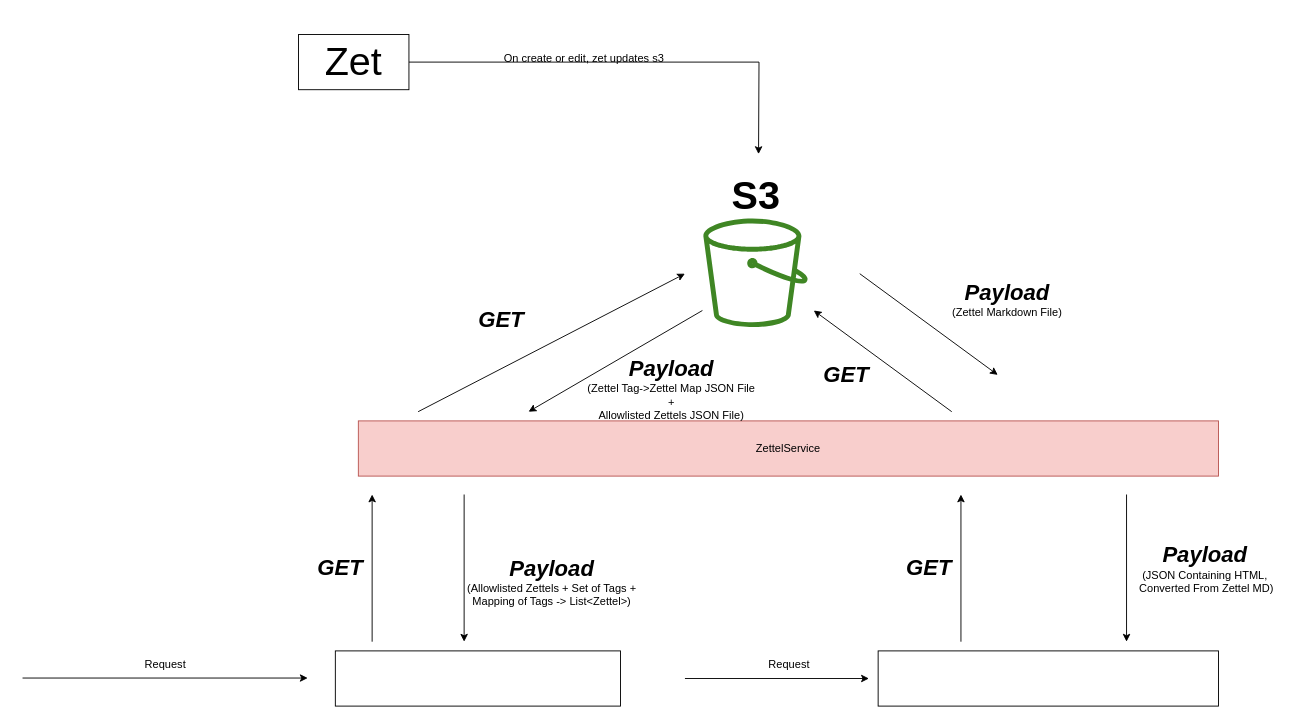
This 1299x722 diagram has some shape labels left out. Here are the shapes that lost their labels. From the top down, the centre of each, then its label:
At point 477,678: "https://www.michaelarnold.io/zettels/zettels.html".
At point 1048,678: "https://www.michaelarnold.io/zettels/<ZETTEL_ID>.html".
